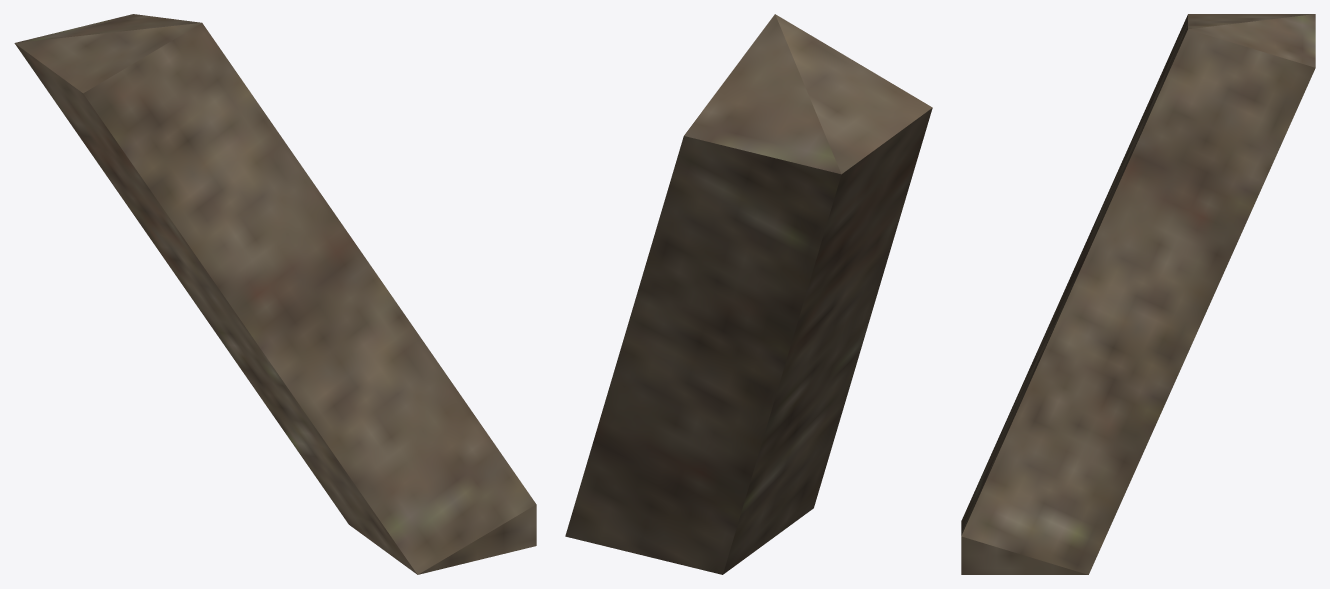
Rendered from whitebeam_branch_22.5_diagonal.obj.
3 renders of one model, left to right at view 1: azimuth 30°, elevation 25°; view 2: azimuth 150°, elevation 25°; view 3: azimuth 270°, elevation 25°, orthographic. The views are drawn at different scales.
Visible parts, largest first — view 1: cube; view 2: cube; view 3: cube.
Boxes of the visible parts, x1,y1,x2,y2 form: cube: (14,14,536,574); cube: (565,14,932,574); cube: (961,14,1315,574).
Bounding box in the file's own units: 1.56 × 2.19 × 1.56.
